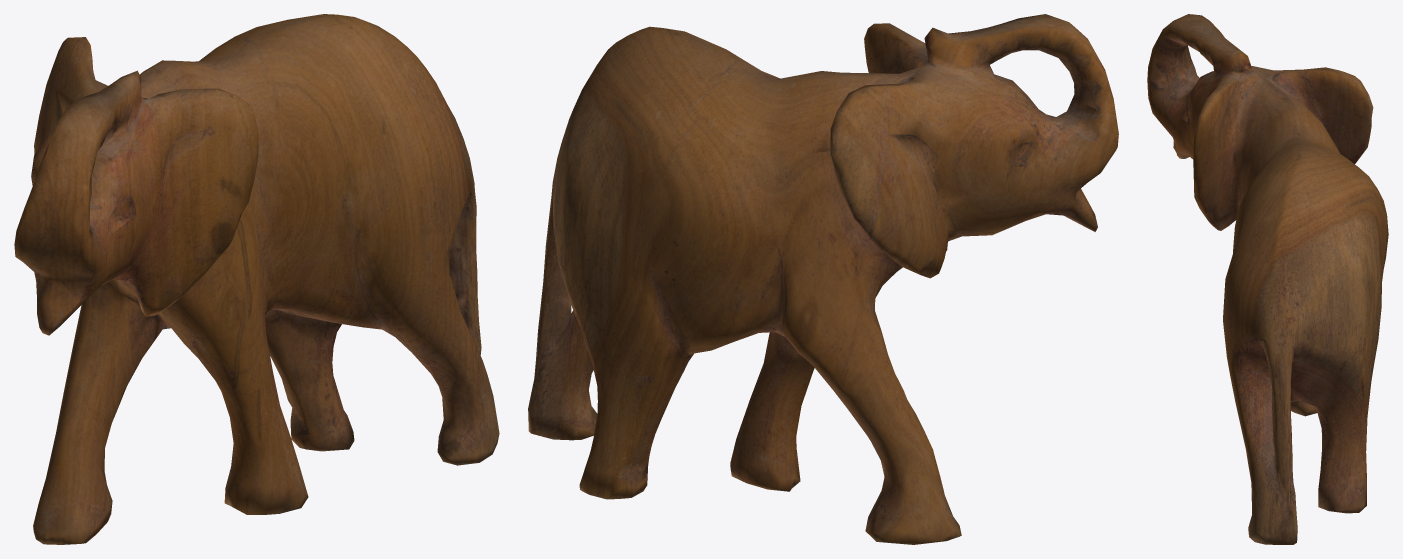
Rendered from wooden-elephant.glb.
3 renders of one model, left to right at view 1: azimuth 30°, elevation 25°; view 2: azimuth 150°, elevation 25°; view 3: azimuth 270°, elevation 25°, orthographic. The views are drawn at different scales.
Parts seen in each view (by area): view 1: carved_wooden_elephant; view 2: carved_wooden_elephant; view 3: carved_wooden_elephant.
Boxes of the visible parts, x1,y1,x2,y2 form: carved_wooden_elephant: (14,14,499,544); carved_wooden_elephant: (528,14,1118,544); carved_wooden_elephant: (1147,14,1388,544).
Size of the model in its own units: 0.1092 by 0.0962 by 0.0576.
Materials: 1 (1 with a texture image).
